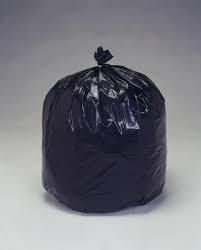Trash: (38, 42, 168, 219)
